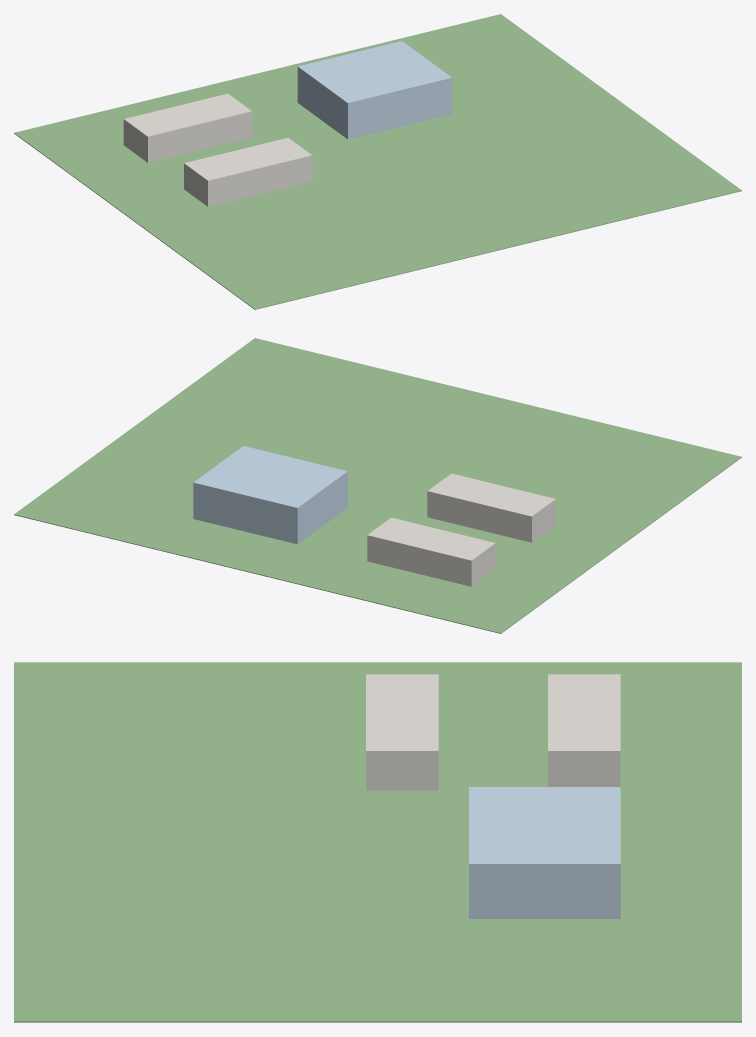
Rendered from test-campus.glb.
The picture shows the model from 3 angles, top to bottom: view 1: azimuth 30°, elevation 25°; view 2: azimuth 150°, elevation 25°; view 3: azimuth 270°, elevation 25°; orthographic projection. The views are drawn at different scales.
Visible parts, largest first — view 1: Ground, Gym, Building_1, Building_2; view 2: Ground, Gym, Building_1, Building_2; view 3: Ground, Gym, Building_2, Building_1.
Boxes of the visible parts, x1,y1,x2,y2 form: Ground: (14, 14, 741, 309); Gym: (297, 41, 452, 139); Building_1: (123, 93, 252, 162); Building_2: (184, 137, 312, 206); Ground: (14, 338, 741, 633); Gym: (193, 446, 347, 544); Building_1: (367, 517, 495, 586); Building_2: (427, 473, 555, 542); Ground: (14, 662, 741, 1022); Gym: (469, 787, 620, 918); Building_2: (366, 674, 438, 790); Building_1: (548, 674, 620, 786).
Bounding box in the file's own units: 140 × 10.2 × 120.
